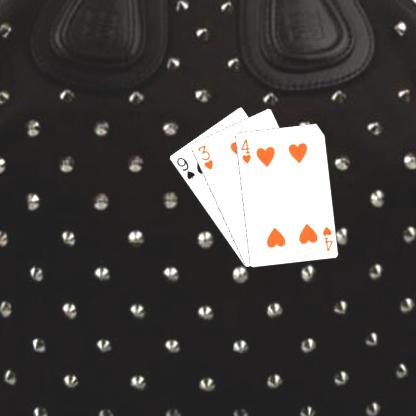3H: (195, 142, 214, 171)
4H: (319, 223, 334, 252), (238, 136, 252, 165)
9S: (174, 154, 196, 180)
